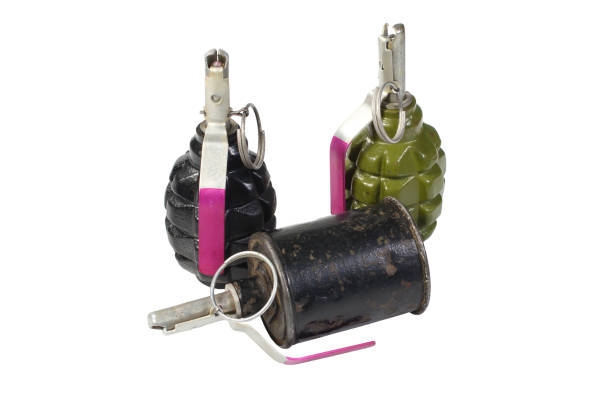e1: (328, 21, 454, 242), (165, 46, 280, 285)
